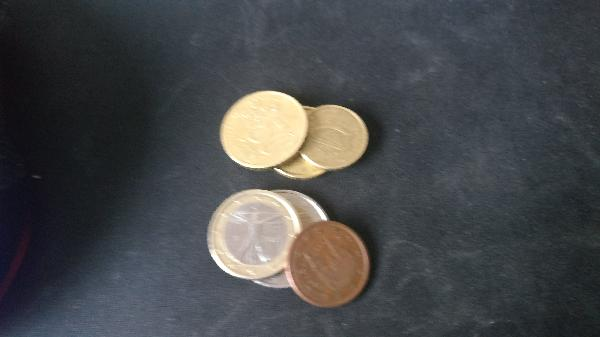Fifty Cent: (222, 91, 305, 175)
Five Cent: (285, 220, 370, 308)
One Euro: (206, 188, 305, 280)
Ten Cent: (303, 102, 371, 172)
